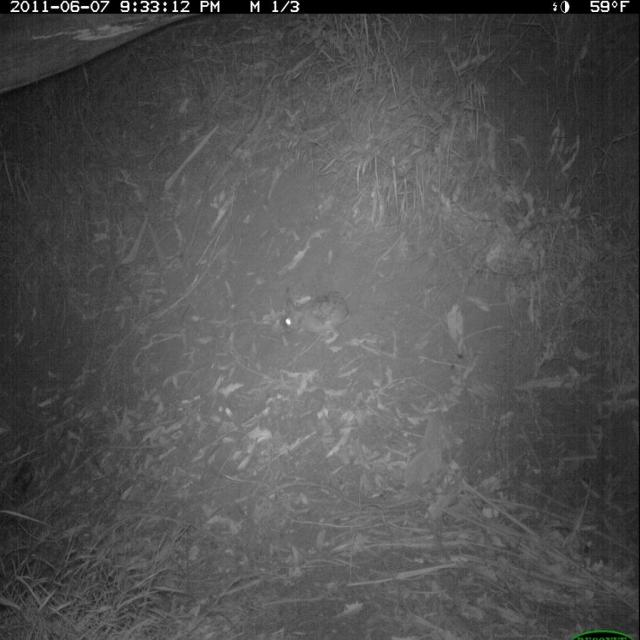rabbit: (281, 290, 355, 346)
